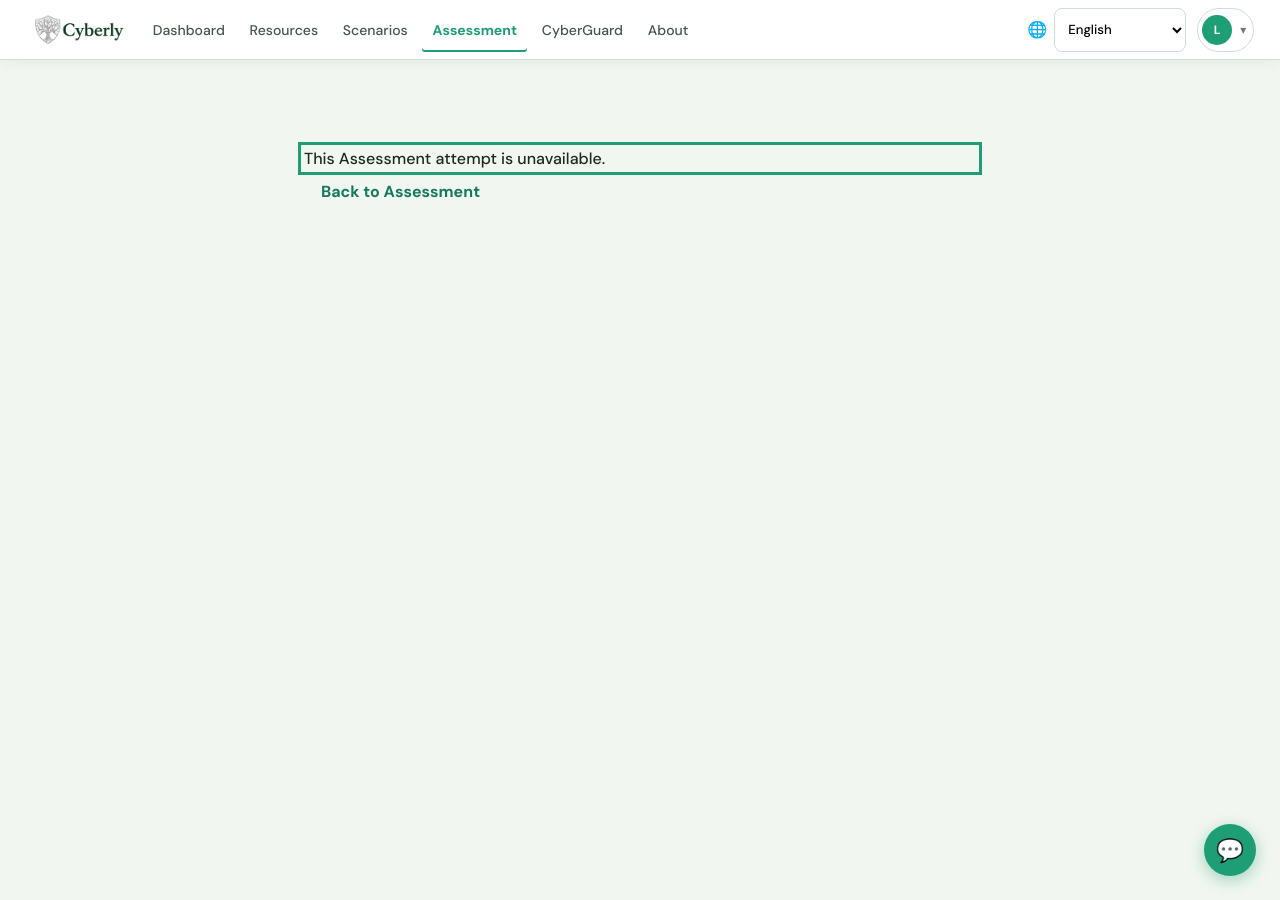
Test case: recovery exit explicitly restores ordinary Assessment loading
Click the button "Back to Assessment": {"x": 401, "y": 191} [304,169,497,213]
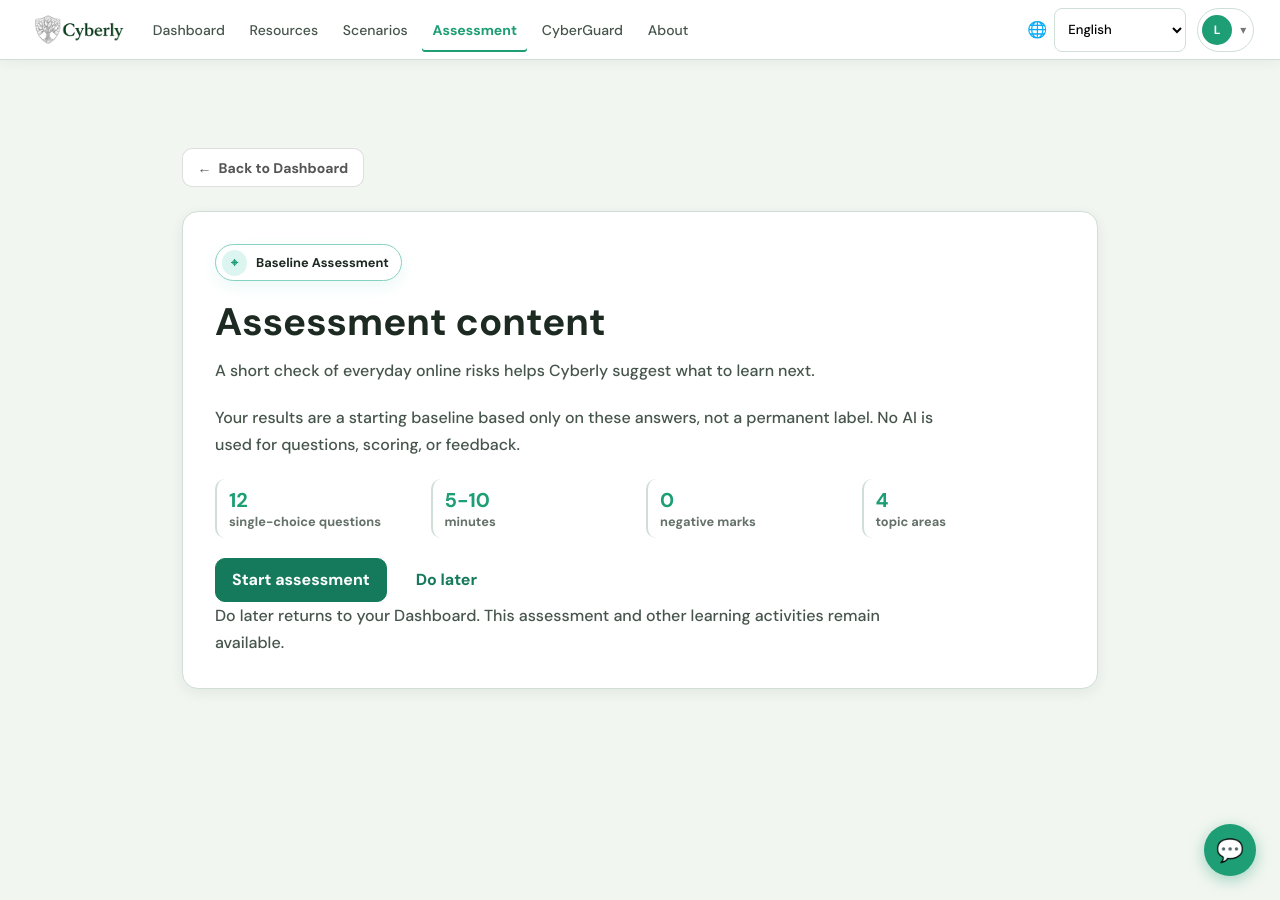
Expected: the button "Start assessment" is shown, [215,558,387,602]
